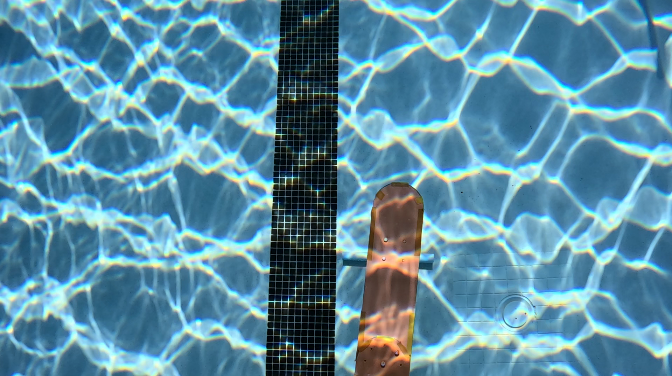pathmarker: (355, 183, 423, 375)
